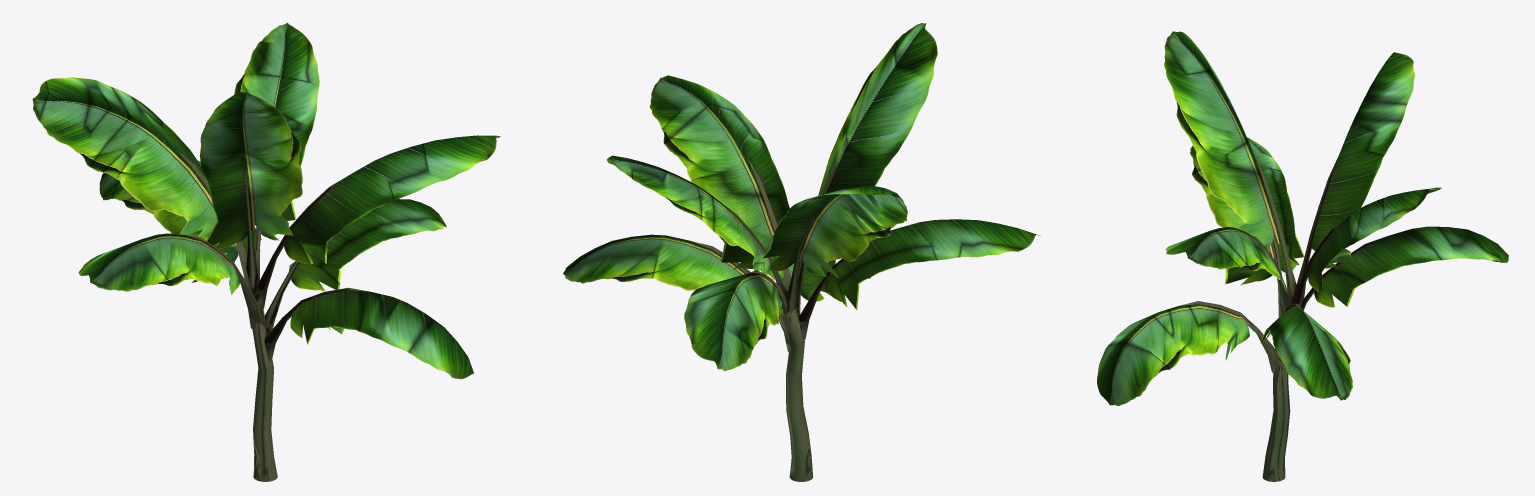
The model's file is banana-plant.glb.
The picture shows the model from 3 angles, left to right: view 1: azimuth 30°, elevation 25°; view 2: azimuth 150°, elevation 25°; view 3: azimuth 270°, elevation 25°; orthographic projection. The views are drawn at different scales.
Parts seen in each view (by area): view 1: SM_MZRa_Banana_B092; view 2: SM_MZRa_Banana_B092; view 3: SM_MZRa_Banana_B092.
Part boxes in pixels (x1,y1,x2,y2): SM_MZRa_Banana_B092: (32, 23, 500, 481); SM_MZRa_Banana_B092: (563, 23, 1040, 481); SM_MZRa_Banana_B092: (1097, 31, 1508, 481).
Size of the model in its own units: 2.92 by 2.77 by 2.61.
2 materials, 2 textured.
